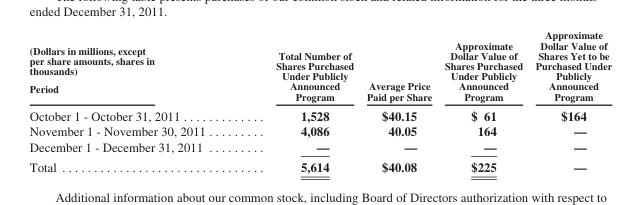table: (28, 28, 611, 174)
table column: (28, 28, 240, 174), (240, 28, 359, 174), (437, 28, 528, 174), (528, 28, 611, 174), (359, 28, 437, 174)
table column header: (28, 28, 611, 105)
table row: (28, 28, 611, 105), (28, 105, 611, 123), (28, 138, 611, 156), (28, 156, 611, 174), (28, 123, 611, 138)
